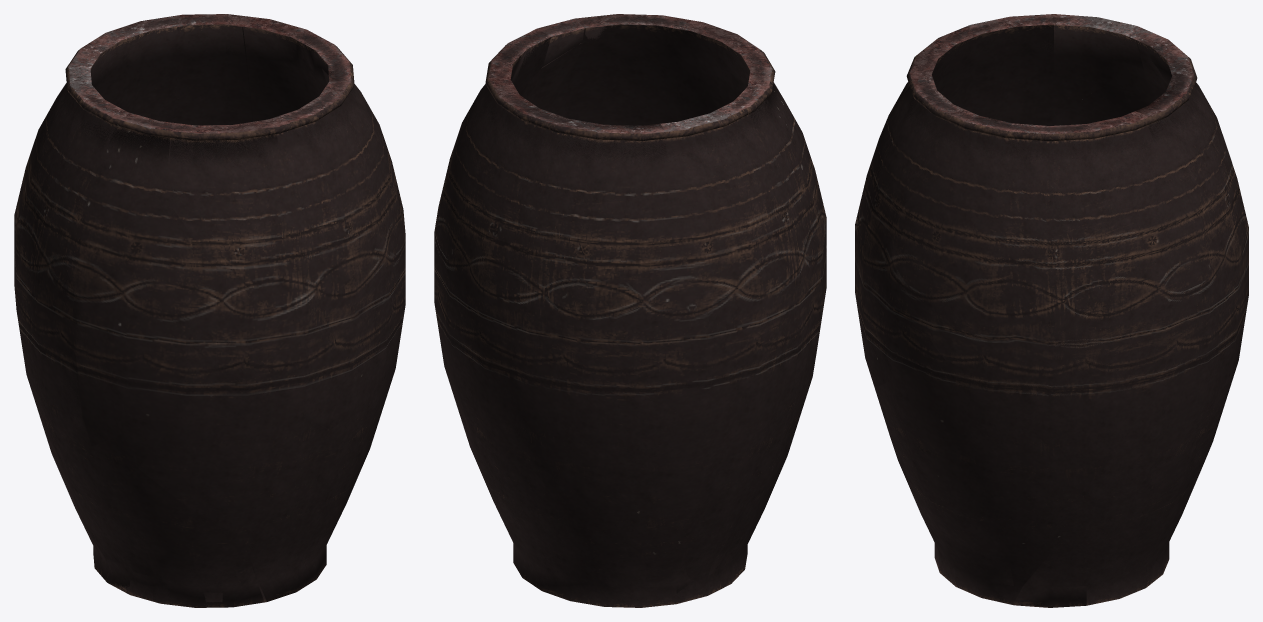
File: brokenJar.fbx
3 views of the same model, side by side, from view 1: azimuth 30°, elevation 25°; view 2: azimuth 150°, elevation 25°; view 3: azimuth 270°, elevation 25° (orthographic).
Visible parts, largest first — view 1: SM_Jar01a, SM_Jar01a_cell.005, SM_Jar01a_cell.002, SM_Jar01a_cell.007, SM_Jar01a_cell.011, SM_Jar01a_cell.001, SM_Jar01a_cell.006, SM_Jar01a_cell.018, SM_Jar01a_cell.009, SM_Jar01a_cell.013, SM_Jar01a_cell.010, SM_Jar01a_cell.012 (+4 smaller); view 2: SM_Jar01a, SM_Jar01a_cell.011, SM_Jar01a_cell.004, SM_Jar01a_cell.017, SM_Jar01a_cell.010, SM_Jar01a_cell.009, SM_Jar01a_cell.014, SM_Jar01a_cell.016, SM_Jar01a_cell, SM_Jar01a_cell.008, SM_Jar01a_cell.006; view 3: SM_Jar01a, SM_Jar01a_cell.014, SM_Jar01a_cell.018, SM_Jar01a_cell.017, SM_Jar01a_cell.005, SM_Jar01a_cell.010, SM_Jar01a_cell.013, SM_Jar01a_cell.006, SM_Jar01a_cell.011, SM_Jar01a_cell.016, SM_Jar01a_cell.
Part boxes in pixels (x1,y1,x2,y2): SM_Jar01a: (14,14,405,604); SM_Jar01a_cell.005: (214,237,404,429); SM_Jar01a_cell.002: (139,365,329,534); SM_Jar01a_cell.007: (75,275,214,467); SM_Jar01a_cell.011: (64,14,252,125); SM_Jar01a_cell.001: (167,124,285,265); SM_Jar01a_cell.006: (57,165,215,306); SM_Jar01a_cell.018: (242,424,370,601); SM_Jar01a_cell.009: (47,428,264,607); SM_Jar01a_cell.013: (278,85,373,245); SM_Jar01a_cell.010: (47,63,171,197); SM_Jar01a_cell.012: (243,23,319,121); SM_Jar01a: (434,14,826,607); SM_Jar01a_cell.011: (486,87,673,251); SM_Jar01a_cell.004: (527,368,720,593); SM_Jar01a_cell.017: (437,321,546,490); SM_Jar01a_cell.010: (665,60,795,164); SM_Jar01a_cell.009: (708,454,785,575); SM_Jar01a_cell.014: (522,43,582,109); SM_Jar01a_cell.016: (676,188,823,320); SM_Jar01a_cell: (511,18,584,91); SM_Jar01a_cell.008: (711,296,812,439); SM_Jar01a_cell.006: (789,126,825,255); SM_Jar01a: (859,14,1248,607); SM_Jar01a_cell.014: (889,143,1156,398); SM_Jar01a_cell.018: (875,364,1142,602); SM_Jar01a_cell.017: (1014,320,1241,607); SM_Jar01a_cell.005: (855,178,933,387); SM_Jar01a_cell.010: (956,14,1150,97); SM_Jar01a_cell.013: (866,93,963,234); SM_Jar01a_cell.006: (1005,76,1102,125); SM_Jar01a_cell.011: (1135,32,1218,230); SM_Jar01a_cell.016: (1047,87,1152,125); SM_Jar01a_cell: (967,115,1070,208).
Bounding box in the file's own units: 67.64 × 91.81 × 67.64.
